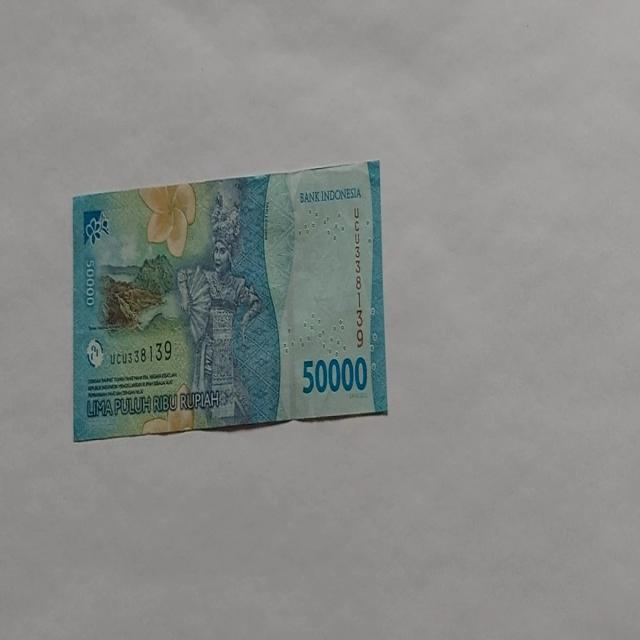lima puluh ribu rupiah: (71, 158, 387, 443), (175, 191, 262, 426)
